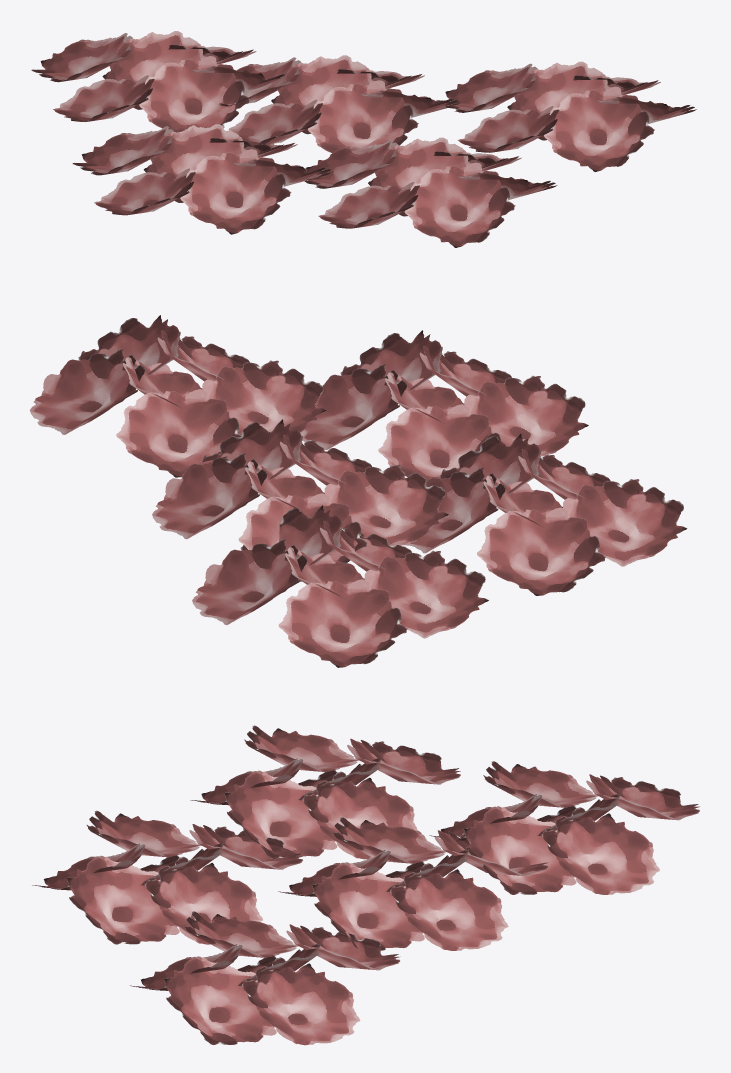
The model's file is RedFlowers_Small.fbx.
3 renders of one model, top to bottom at view 1: azimuth 30°, elevation 25°; view 2: azimuth 150°, elevation 25°; view 3: azimuth 270°, elevation 25°, orthographic. The views are drawn at different scales.
Parts seen in each view (by area): view 1: RedFlower6; view 2: RedFlower6; view 3: RedFlower6.
Boxes of the visible parts, box(x1,y1,x2,y2) form: RedFlower6: box(31, 31, 696, 247); RedFlower6: box(29, 315, 687, 667); RedFlower6: box(32, 725, 699, 1045).
Size of the model in its own units: 0.4637 by 0.044 by 0.4216.
